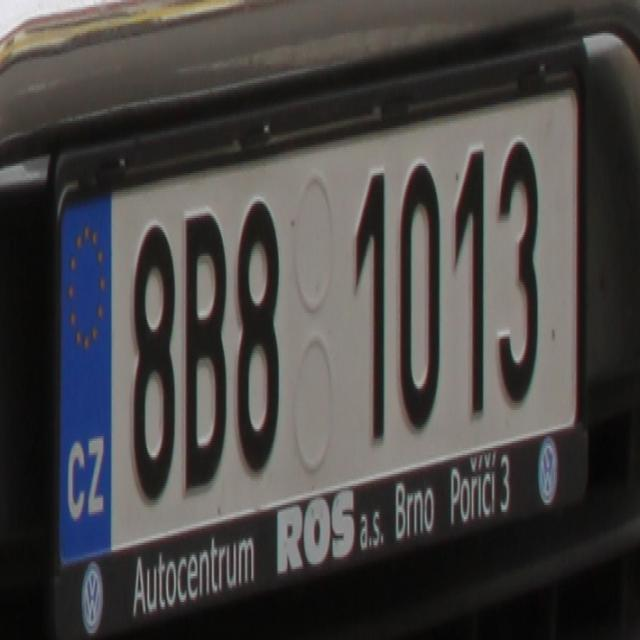0: (398, 156, 442, 424)
1: (354, 168, 388, 453), (453, 144, 488, 420)
3: (498, 135, 537, 413)
8: (235, 194, 280, 482), (130, 222, 174, 500)
B: (180, 208, 228, 501)
